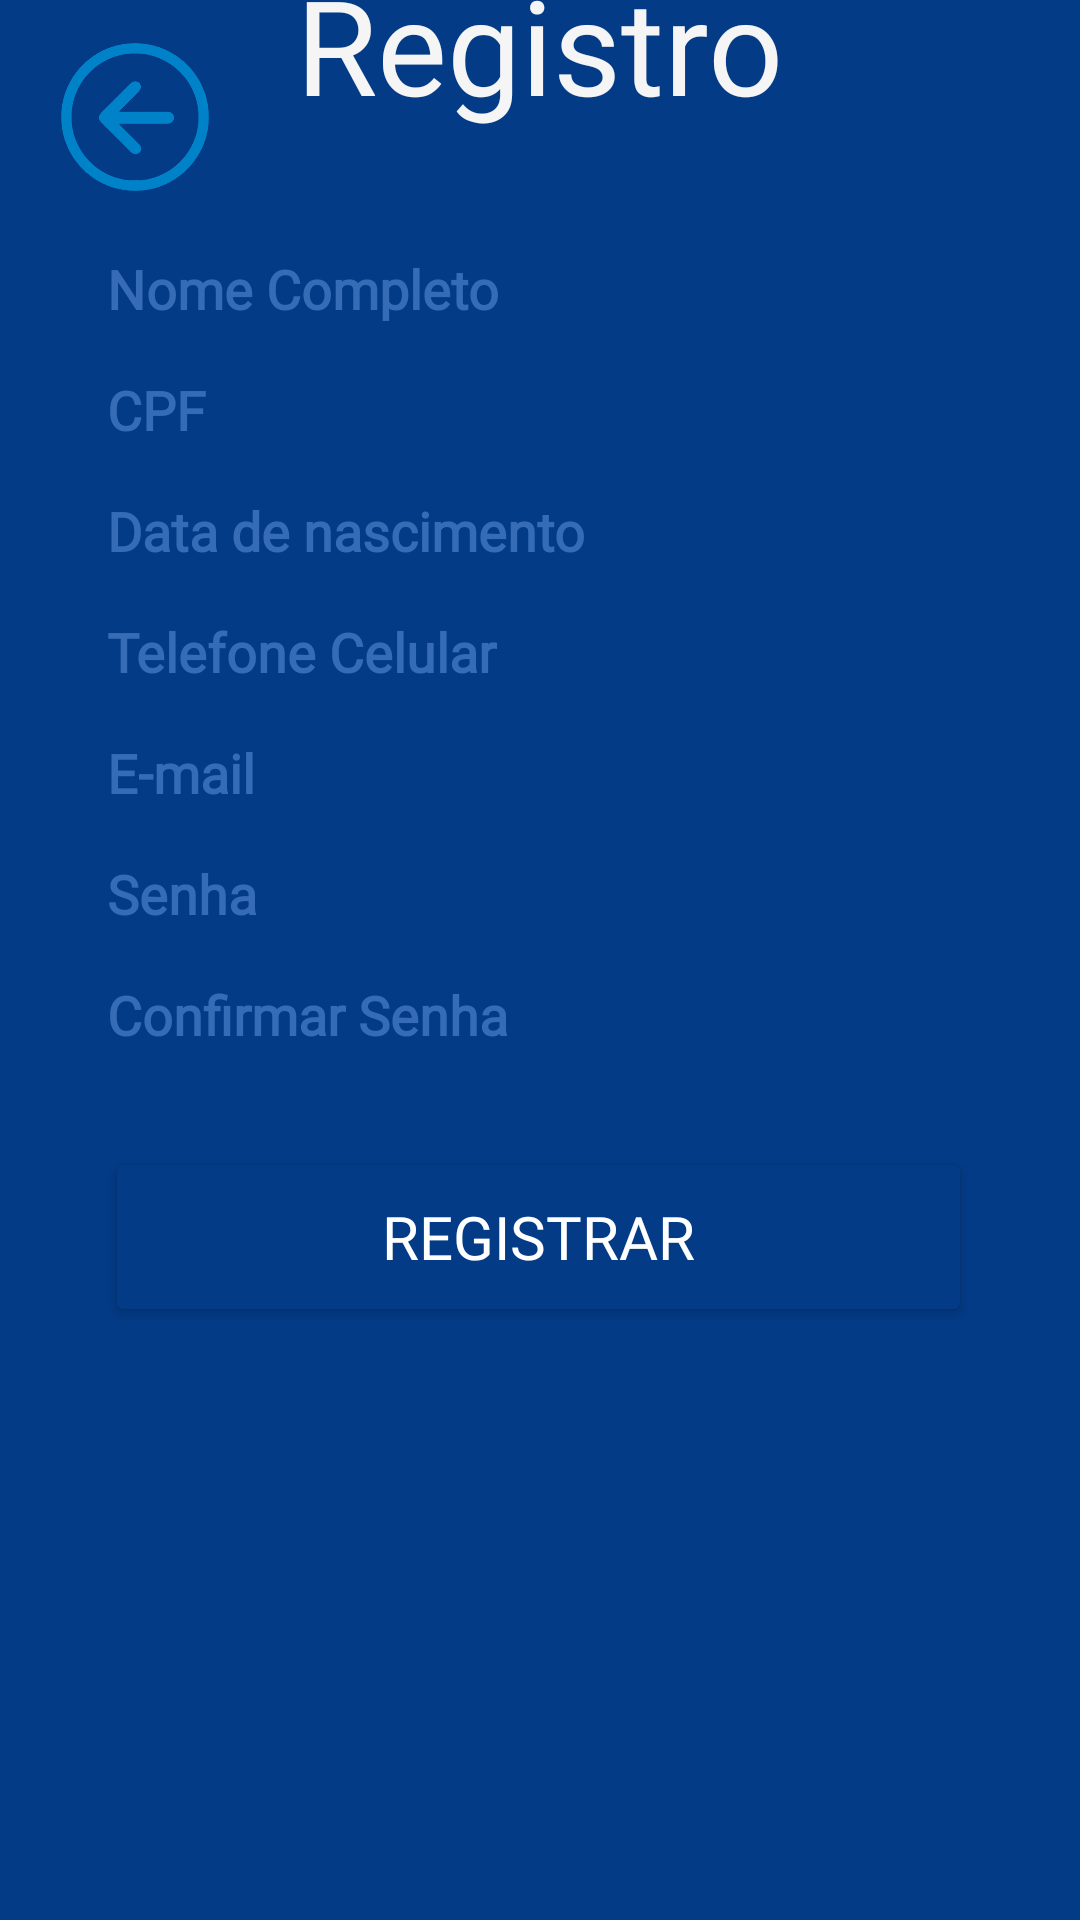

Named icons in this screenshot (1080*1920) and their bounding boxes, (x1, y1, x2, y2):
seta voltar: (61, 43, 209, 191)
